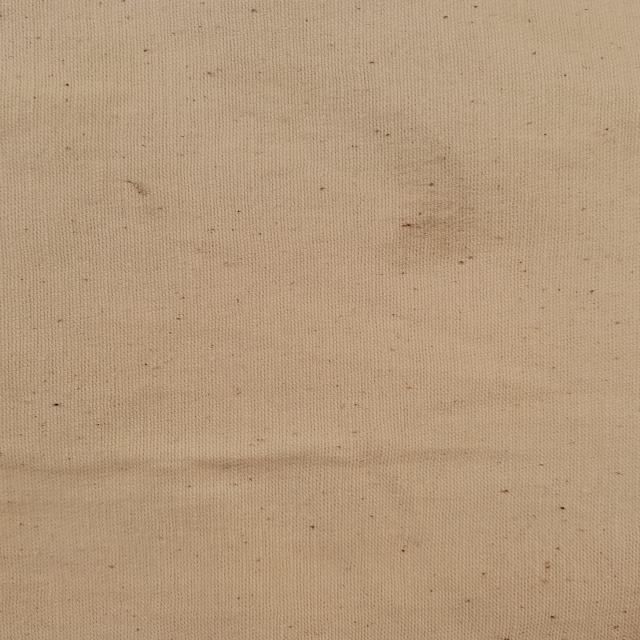taaaches: (382, 133, 484, 272), (110, 175, 162, 202)
